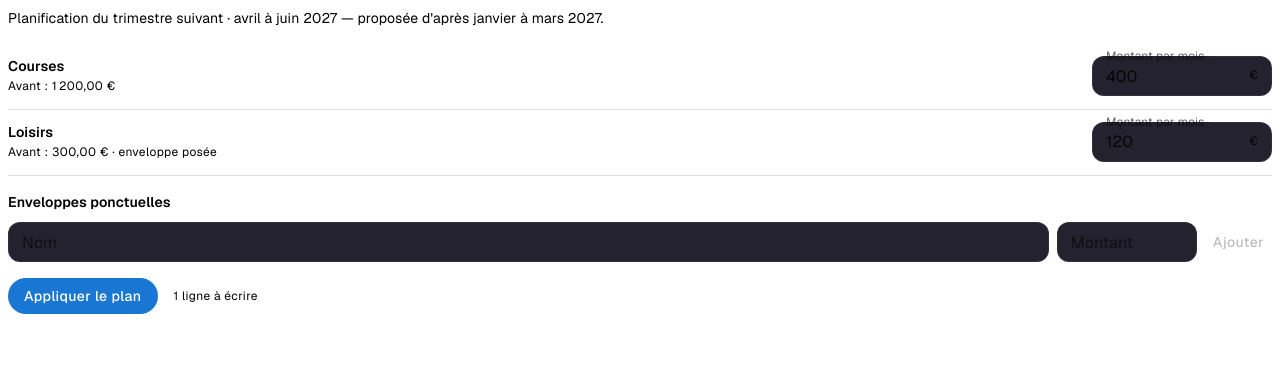
Test: PeriodPlanStep › a one-off envelope can be taken back before applying
The image size is (1280, 369).
Type "Escapade" into the field labelled "Nom" at (528, 242), box [8,222,1049,262]
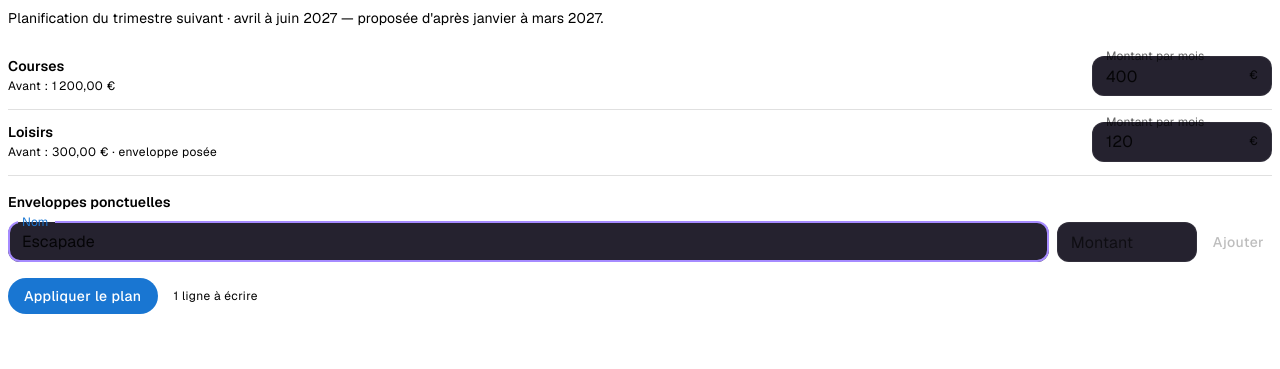
Type "450" into the number field labelled "Montant" at (1127, 242), box [1057,222,1197,262]
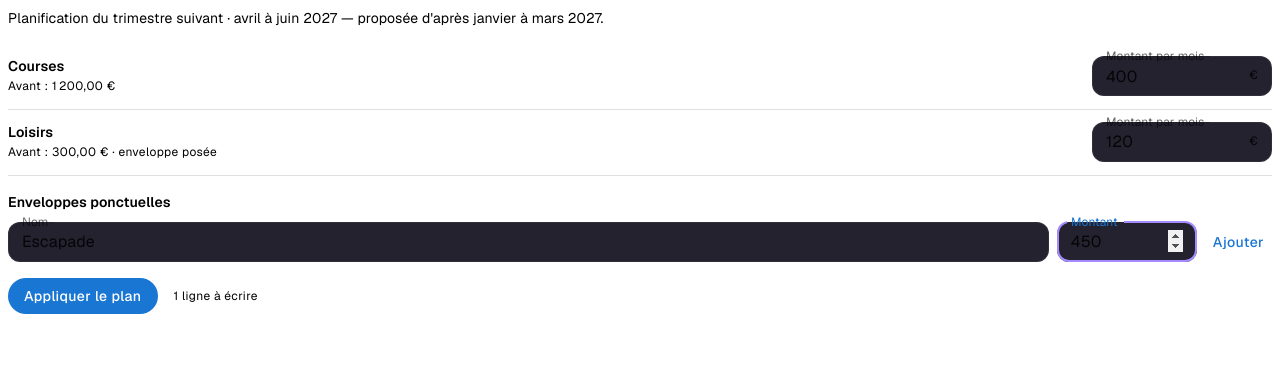
Click the button "Ajouter" at (1238, 242), box [1205,222,1272,262]
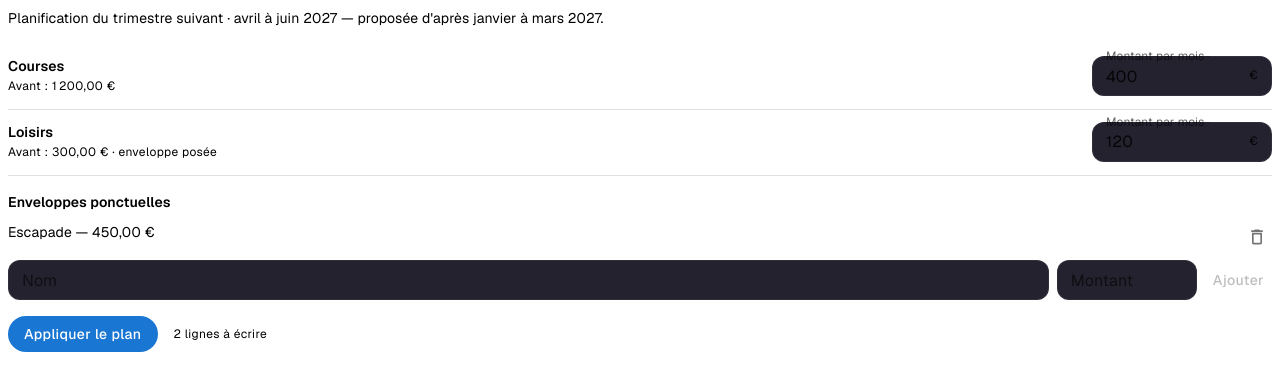
Click the button named "Retirer Escapade" at (1257, 237), box [1242,222,1272,252]
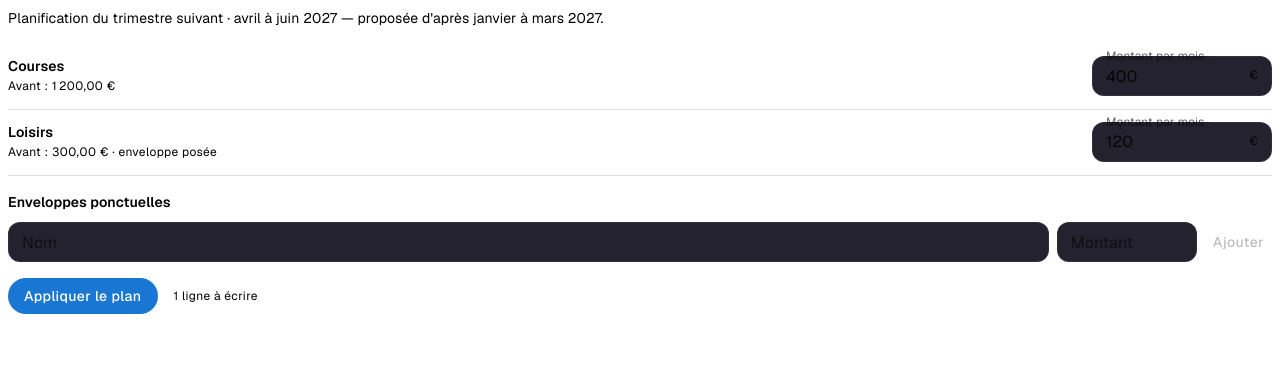
Expected: the element with test id "plan-one-off" is gone
Expected: the text with test id "plan-count" reads "1 ligne à écrire", [174,288,258,304]
